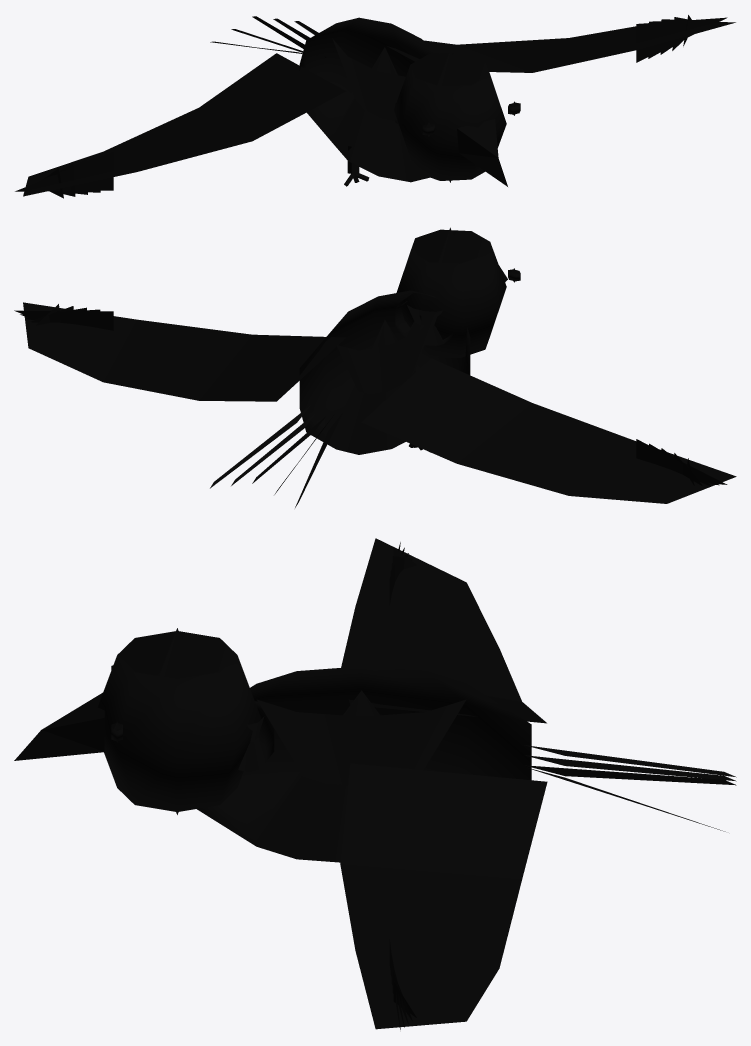
Rendered from gliding_07.glb.
3 views of the same model, one above another, from view 1: azimuth 30°, elevation 25°; view 2: azimuth 150°, elevation 25°; view 3: azimuth 270°, elevation 25° (orthographic). The views are drawn at different scales.
Visible parts, largest first — view 1: RaptorBody; view 2: RaptorBody; view 3: RaptorBody.
Boxes of the visible parts, x1,y1,x2,y2 form: RaptorBody: (15,15,735,198); RaptorBody: (14,227,736,507); RaptorBody: (14,538,736,1029).
Size of the model in its own units: 1.79 by 0.4166 by 1.12.
Materials: 7 (7 with a texture image).
